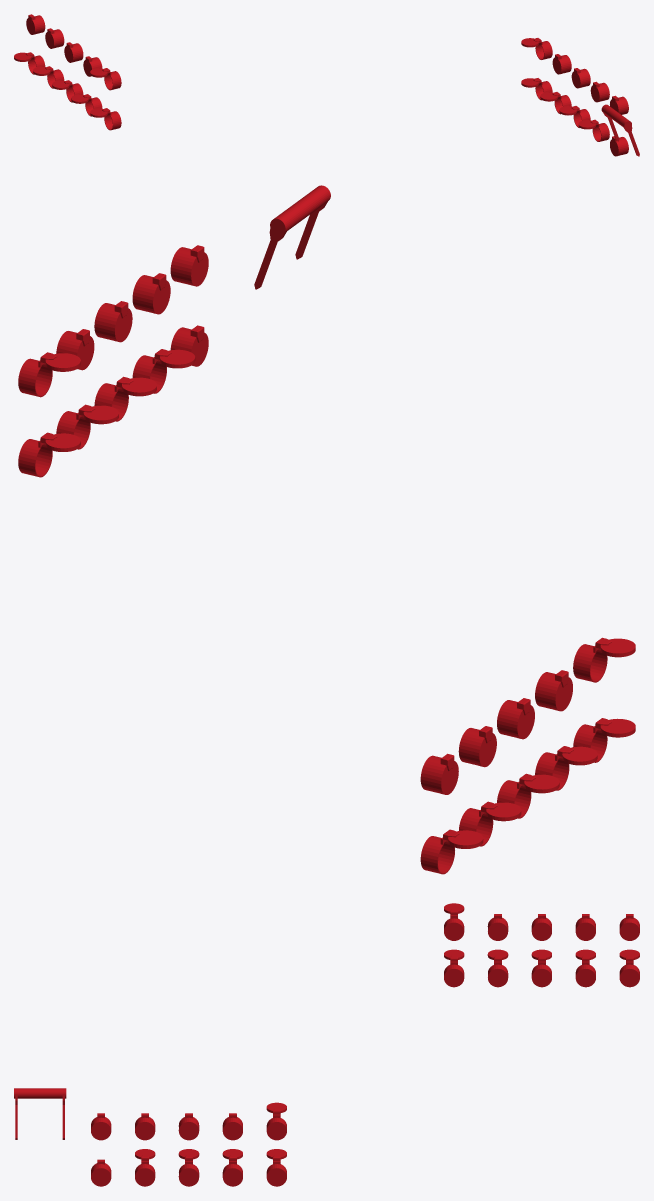
File: power_ports.glb
The picture shows the model from 3 angles, top to bottom: view 1: azimuth 30°, elevation 25°; view 2: azimuth 150°, elevation 25°; view 3: azimuth 270°, elevation 25°; orthographic projection. The views are drawn at different scales.
Visible parts, largest first — view 1: power_ports; view 2: power_ports; view 3: power_ports.
Part boxes in pixels (x1,y1,x2,y2): power_ports: (14,14,639,156); power_ports: (18,185,635,874); power_ports: (14,903,639,1186).
Size of the model in its own units: 2.88 by 0.4931 by 3.56.
